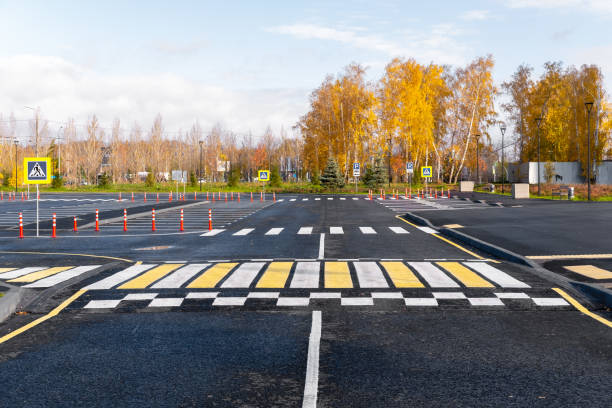yaya_gecidi_levha: (23, 161, 47, 179)
